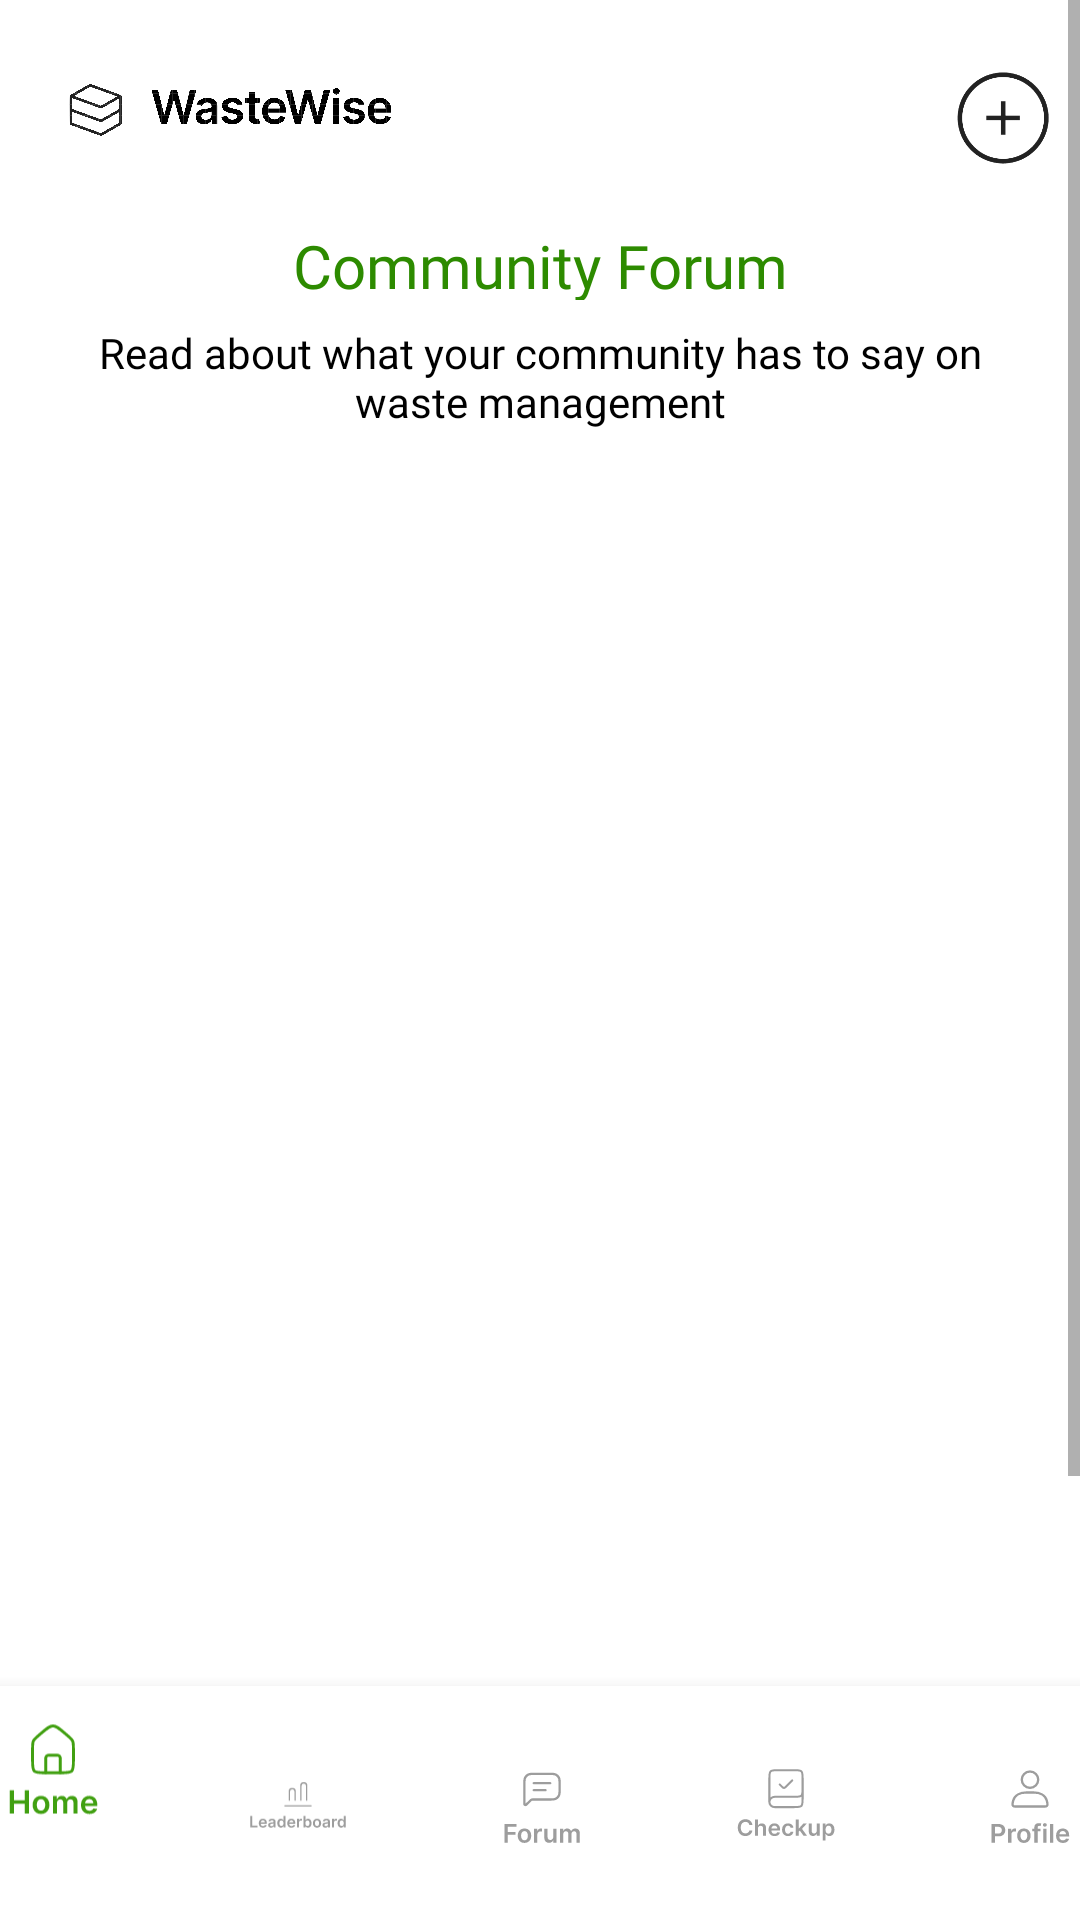

Icons on this 1080w x 1920h Android screen, each with its box as (x1, y1, x2, y2):
add: (957, 72, 1049, 164)
